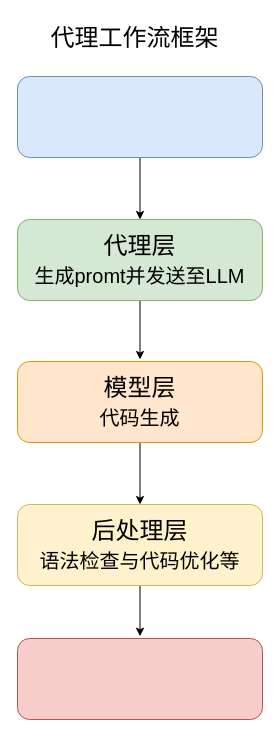
This 280x737 diagram has some shape labels left out. The centre of each missing label's shape, as x and y in pixels:
"反馈层 输出结果" goes at point 139,679.
"客户端层 输入自然语言" goes at point 139,117.
